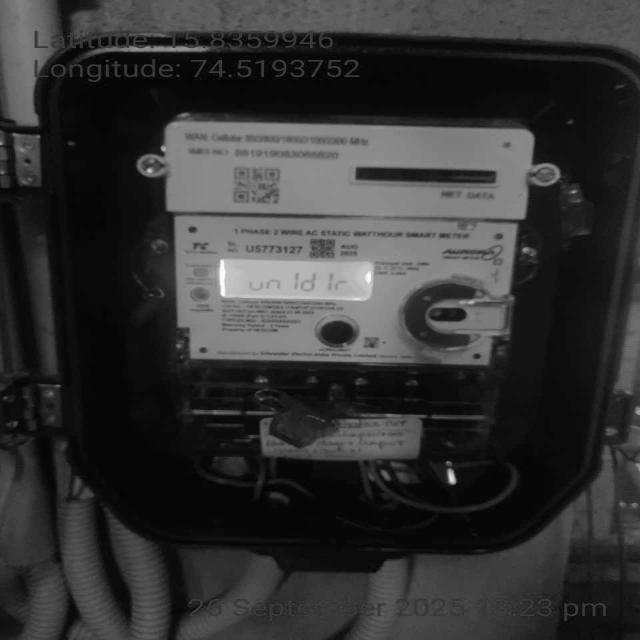meter: (162, 123, 528, 367)
